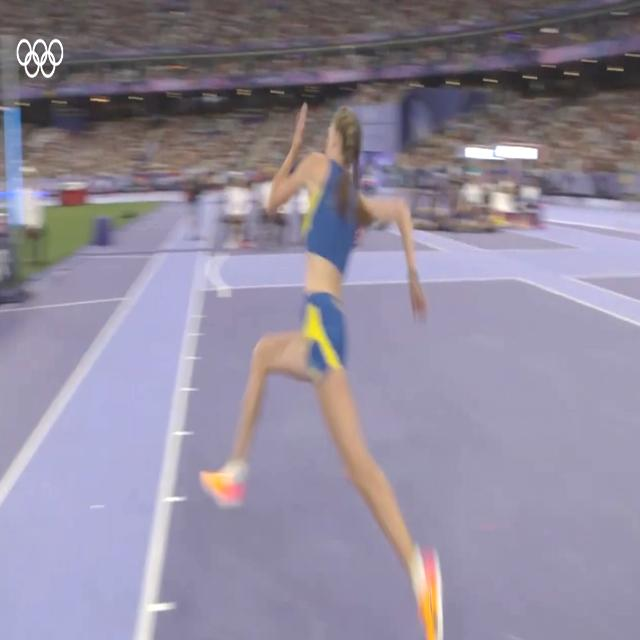run: (200, 100, 446, 640)
